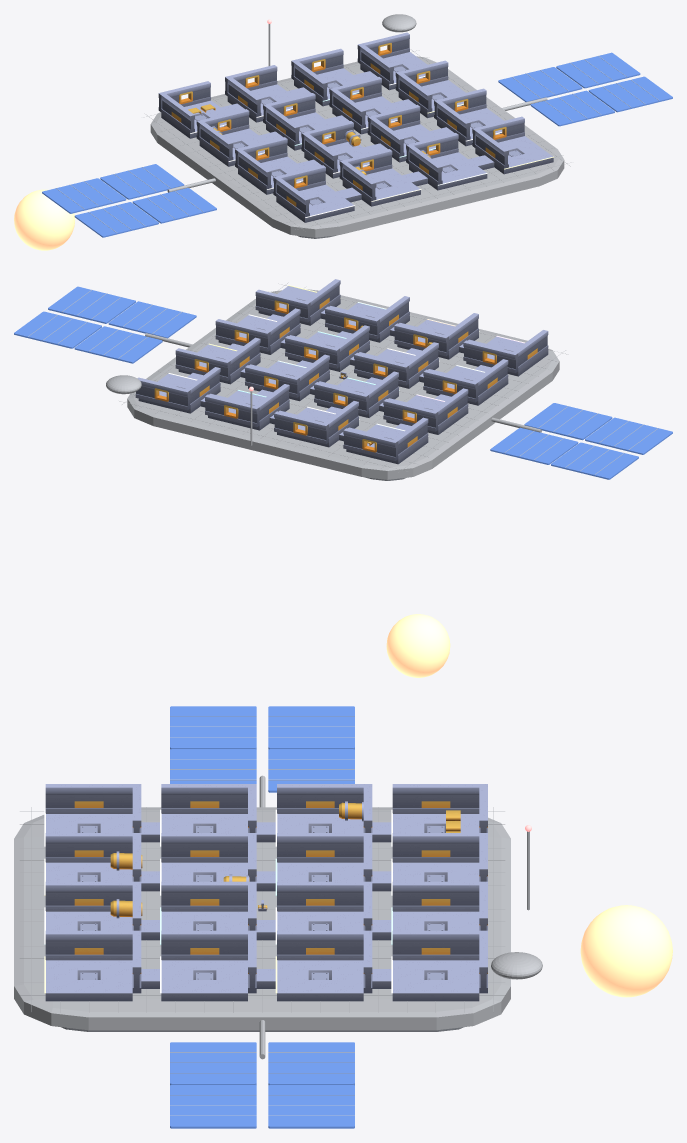
Rendered from space.glb.
3 views of the same model, one above another, from view 1: azimuth 30°, elevation 25°; view 2: azimuth 150°, elevation 25°; view 3: azimuth 270°, elevation 25° (orthographic). The views are drawn at different scales.
Parts seen in each view (by area): view 1: flat-hull, moon, box.001, box.017, box.025, box.029, box.009, box.013, box.005, box.021, Sphere, wall.035 (+1 smaller); view 2: flat-hull, moon, box.013, box.009, box.021, box.005, box.025, box.029, box.001, box.017; view 3: flat-hull, moon, box.025, box.029, box.009, box.013, box.017, box.021, box.005, box.001, Sphere, wall-banner.009 (+55 smaller).
Part boxes in pixels (x1,y1,x2,y2): flat-hull: (150, 56, 564, 237); moon: (14, 189, 74, 250); box.001: (132, 188, 216, 223); box.017: (530, 90, 614, 126); box.025: (588, 76, 672, 112); box.029: (556, 52, 640, 88); box.009: (74, 202, 158, 237); box.013: (42, 178, 126, 213); box.005: (100, 164, 184, 199); box.021: (498, 67, 582, 101); Sphere: (382, 14, 416, 32); wall.035: (439, 133, 458, 155); flat-hull: (127, 289, 559, 479); moon: (386, 614, 450, 677); box.013: (551, 442, 638, 479); box.009: (585, 417, 672, 454); box.021: (74, 326, 162, 363); box.005: (490, 427, 578, 464); box.025: (48, 286, 135, 323); box.029: (14, 311, 101, 348); box.001: (524, 403, 612, 440); box.017: (108, 301, 196, 338); flat-hull: (14, 807, 510, 1030); moon: (580, 905, 672, 997); box.025: (170, 1085, 256, 1128); box.029: (268, 1085, 354, 1128); box.009: (170, 706, 256, 749); box.013: (268, 706, 354, 749); box.017: (170, 1042, 256, 1085); box.021: (268, 1042, 354, 1085); box.005: (268, 749, 354, 792); box.001: (170, 749, 256, 783); Sphere: (491, 952, 542, 979); wall-banner.009: (74, 881, 103, 911).
Size of the model in its own units: 117 by 40.19 by 77.52.
Materials: 63 (7 with a texture image).
